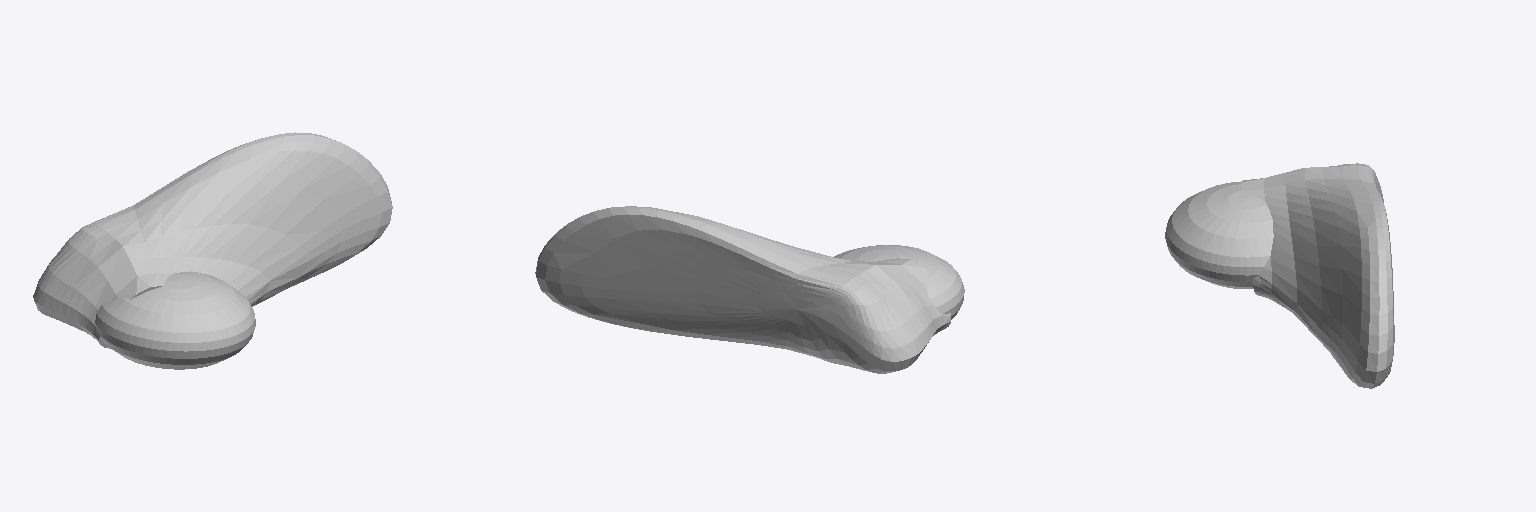
The model's file is L_LEG_FOOT.obj.
The picture shows the model from 3 angles: view 1: azimuth 30°, elevation 25°; view 2: azimuth 150°, elevation 25°; view 3: azimuth 270°, elevation 25°; orthographic projection.
Bounding box in the file's own units: 0.2723 × 0.0937 × 0.147.